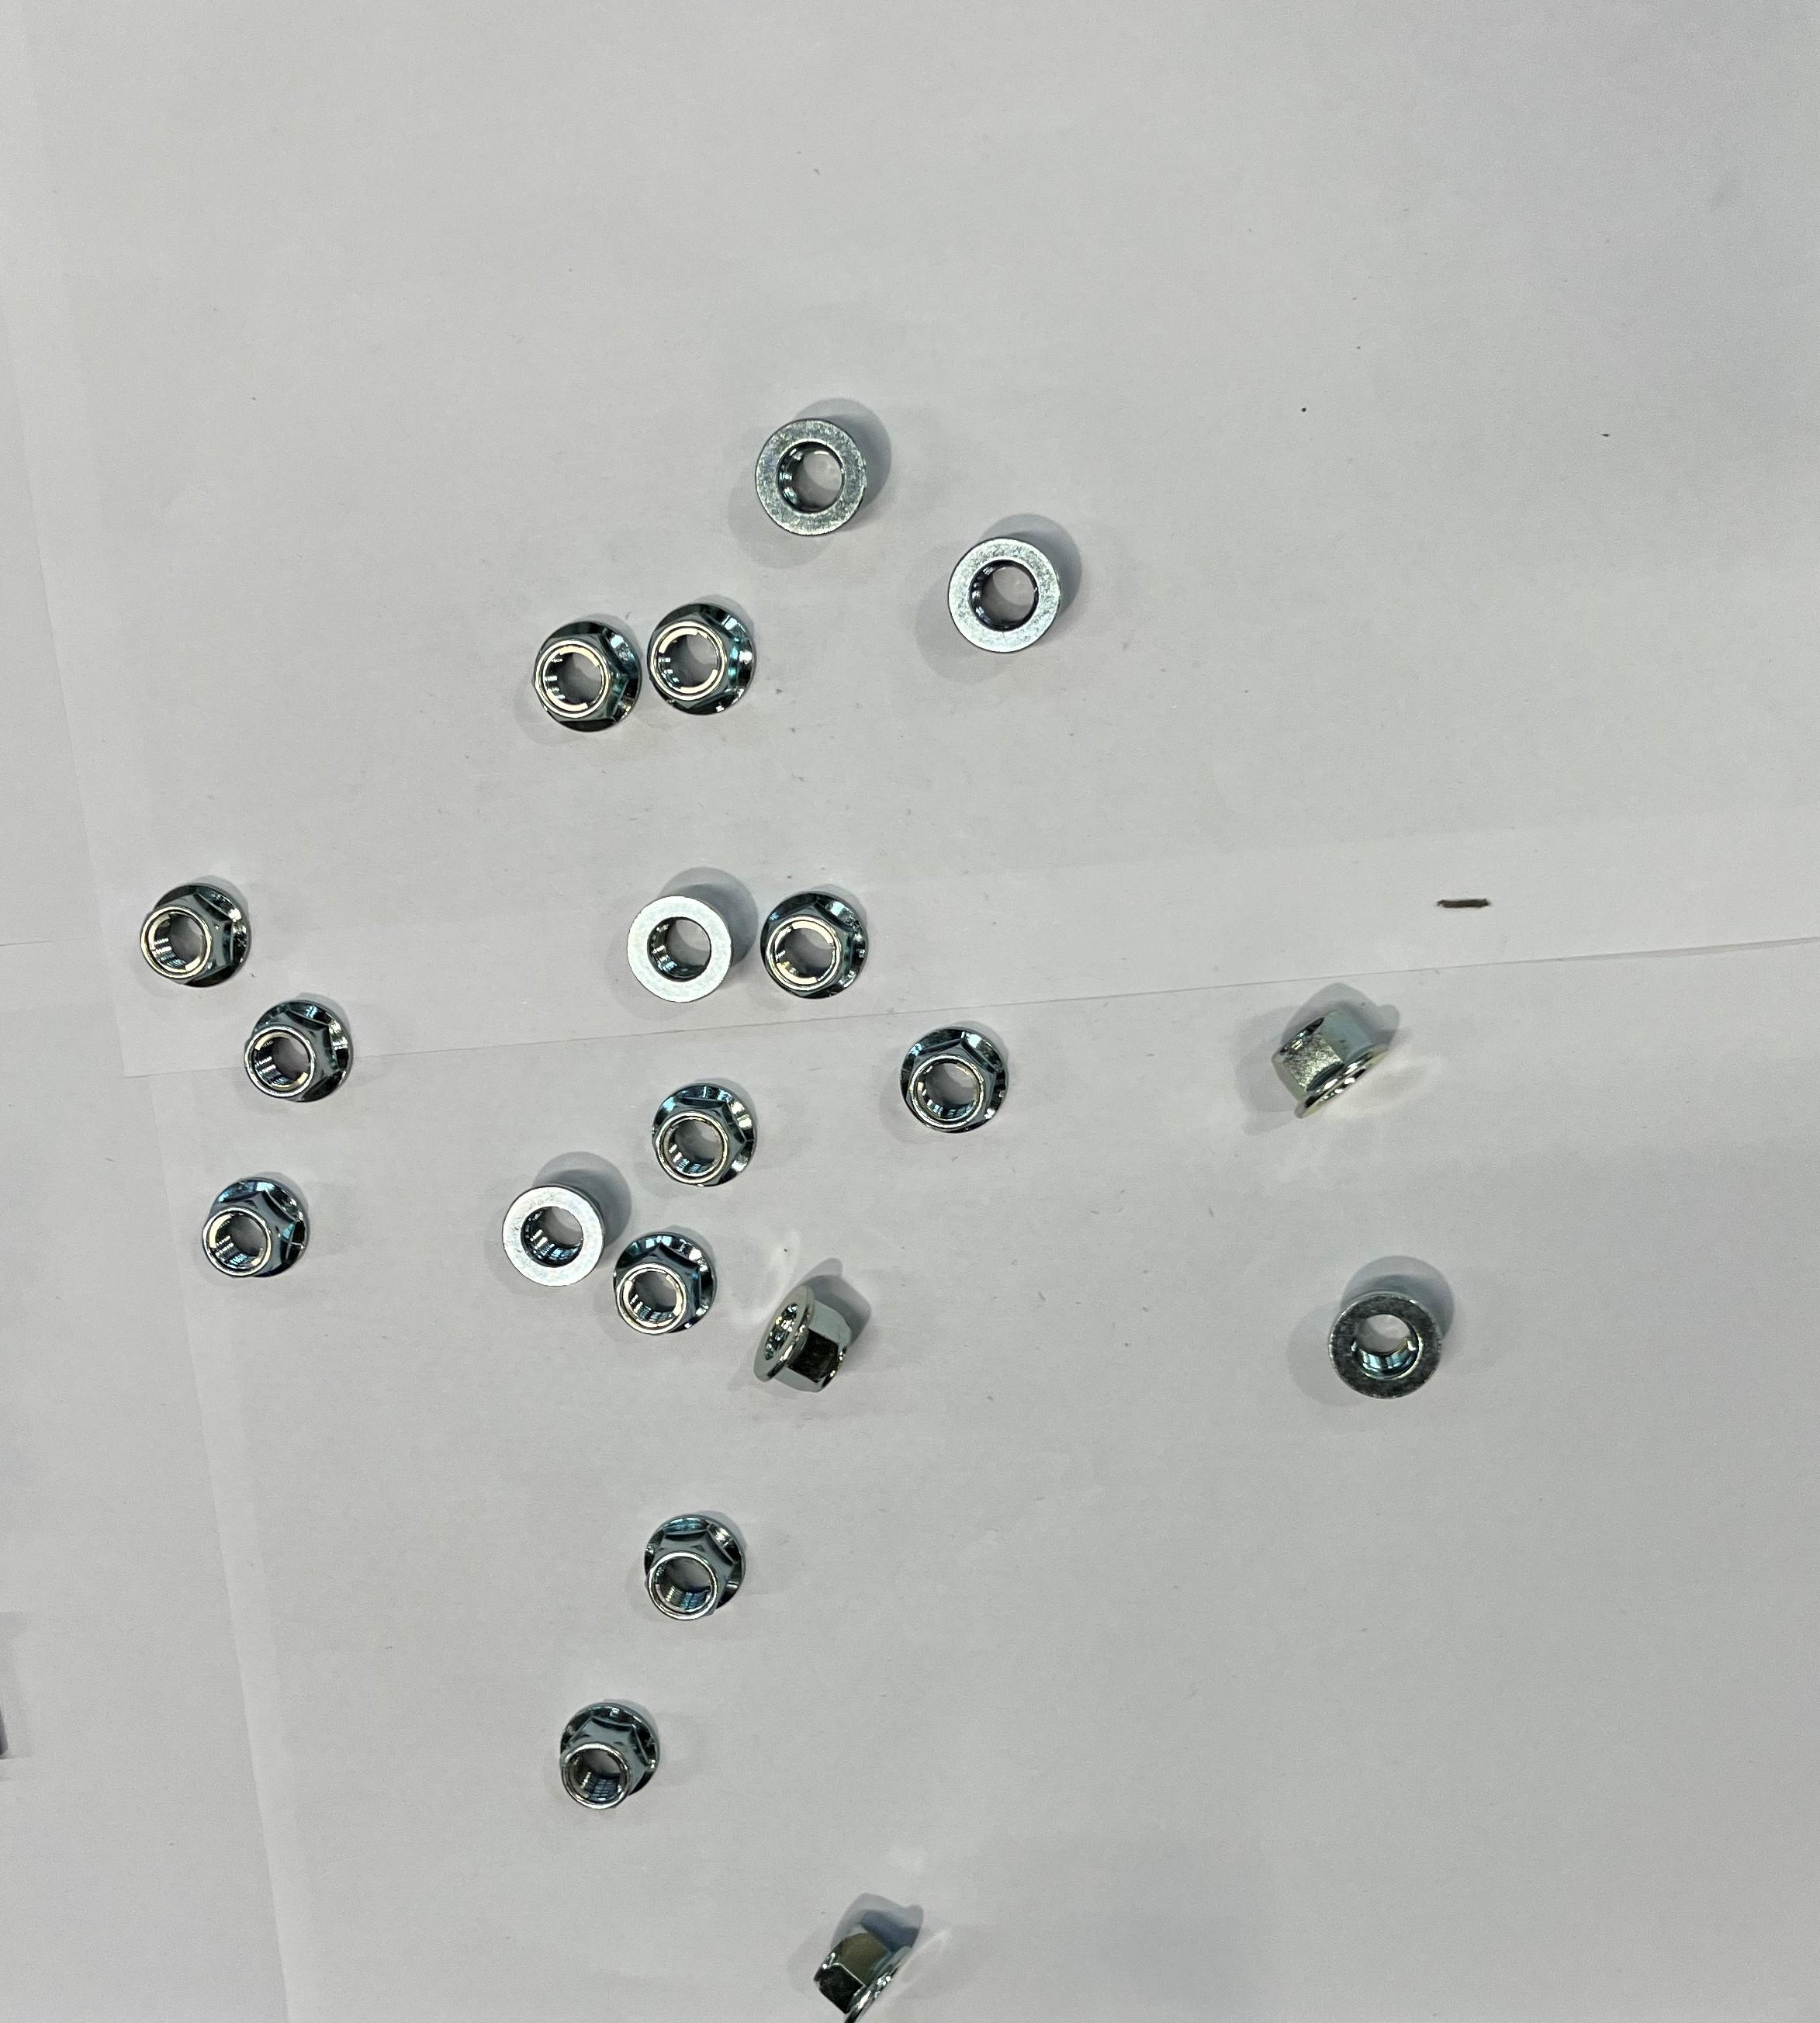Type B: (1272, 1004, 1393, 1120), (625, 884, 738, 1009), (947, 540, 1061, 657), (757, 418, 866, 540), (899, 1025, 1014, 1134), (646, 605, 757, 715), (525, 624, 639, 731), (761, 893, 868, 1002), (1332, 1294, 1441, 1399), (562, 1701, 664, 1810), (246, 997, 351, 1100), (144, 888, 253, 988), (654, 1081, 752, 1190), (648, 1512, 747, 1621), (204, 1179, 311, 1278), (757, 1287, 852, 1397), (504, 1185, 604, 1288), (618, 1230, 717, 1334), (817, 1923, 912, 2023)
